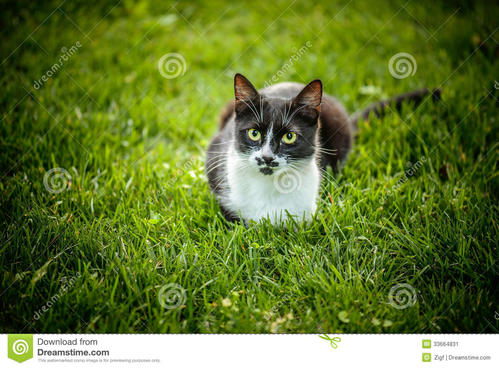cat: (204, 68, 355, 232)
